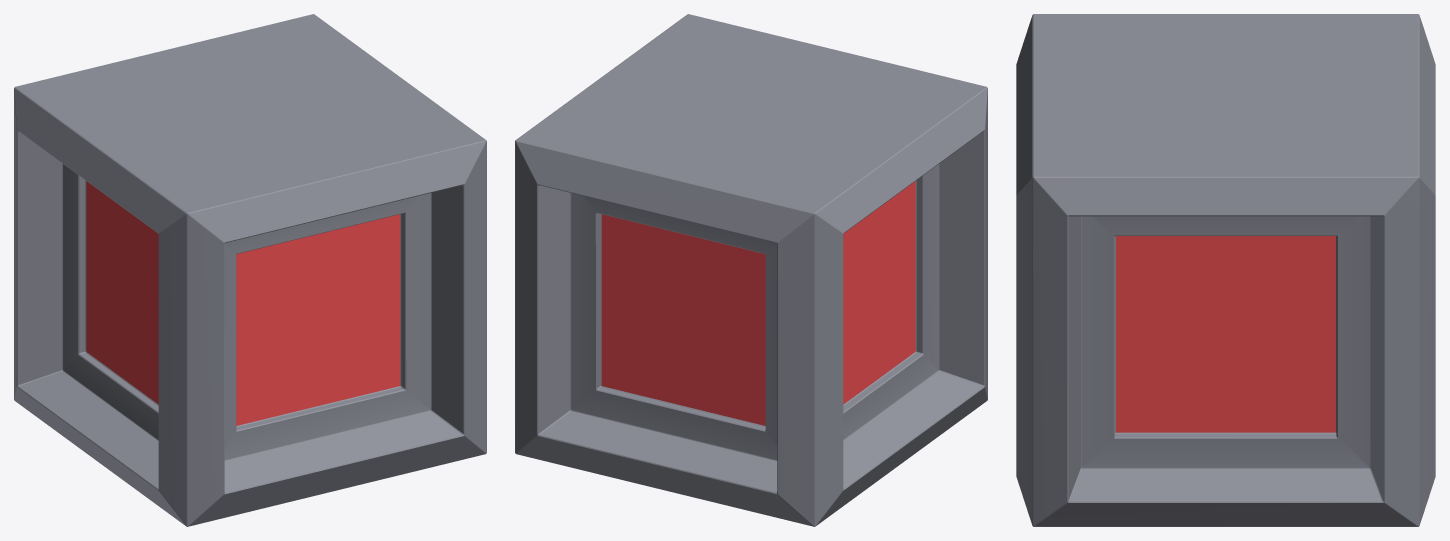
File: Detection_Block.fbx
3 renders of one model, left to right at view 1: azimuth 30°, elevation 25°; view 2: azimuth 150°, elevation 25°; view 3: azimuth 270°, elevation 25°, orthographic. The views are drawn at different scales.
Visible parts, largest first — view 1: Detection_Block; view 2: Detection_Block; view 3: Detection_Block.
Boxes of the visible parts, x1,y1,x2,y2 form: Detection_Block: (14, 14, 486, 526); Detection_Block: (515, 14, 987, 526); Detection_Block: (1016, 14, 1435, 526).
Size of the model in its own units: 1.33 by 1.23 by 1.33.
